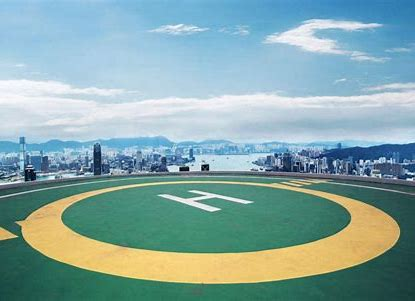H: (156, 190, 255, 213)
